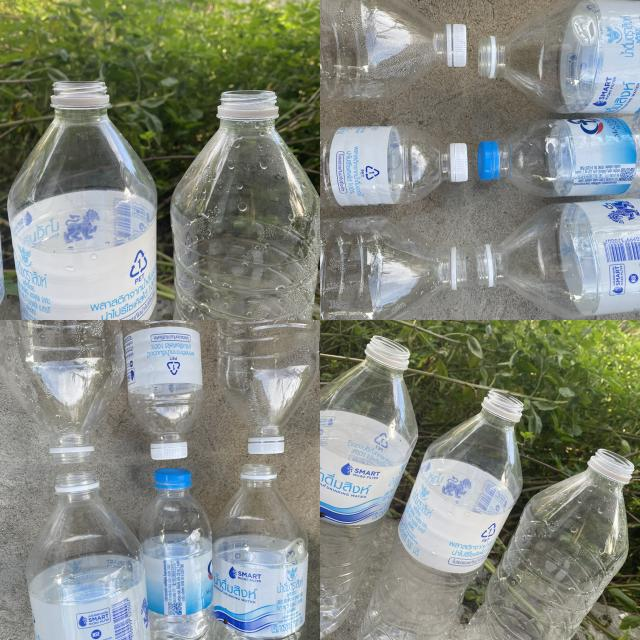plastik: (358, 390, 524, 640), (8, 81, 156, 320), (171, 90, 320, 322), (461, 449, 634, 639), (320, 336, 418, 637), (26, 471, 150, 639), (476, 198, 640, 319), (479, 0, 640, 114), (0, 320, 125, 464), (212, 464, 309, 640), (320, 216, 466, 320), (320, 0, 466, 101), (218, 320, 318, 454), (139, 469, 214, 639), (478, 118, 640, 196), (322, 125, 468, 206), (122, 320, 202, 460)
